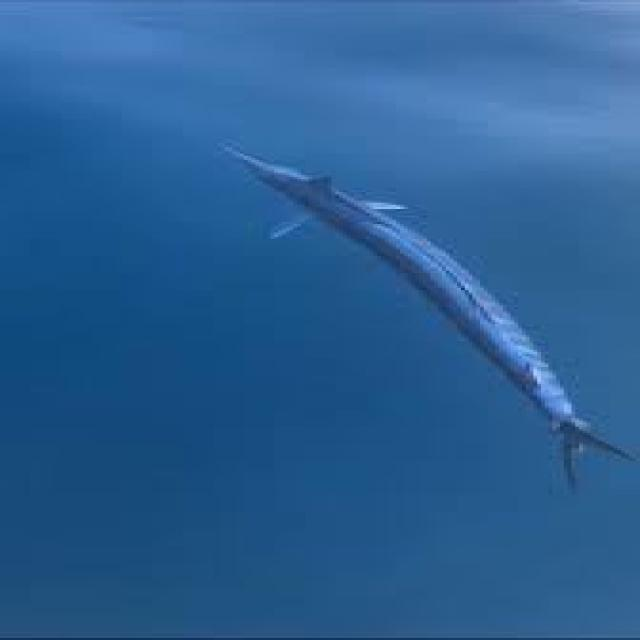Spear Fish: (213, 136, 640, 495)
